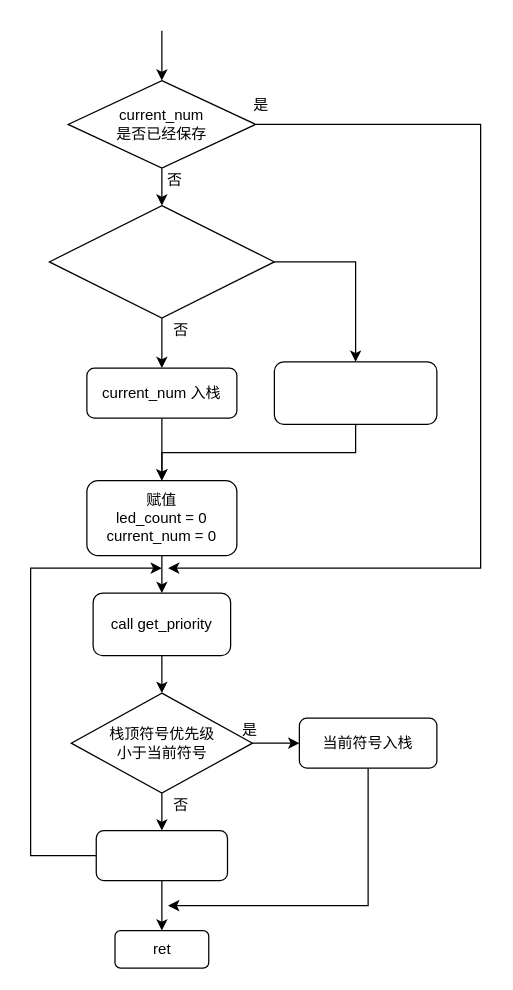
Image size: 513x990. Some labels were removed from this diagram. The centre of each missing label's shape, as x and y in pixels:
call cal_on_op: pixel 161 855
has_right_bracket == 1 上一个符号是右括号: pixel 161 261
赋值 has_right_bracket = 0: pixel 355 392
